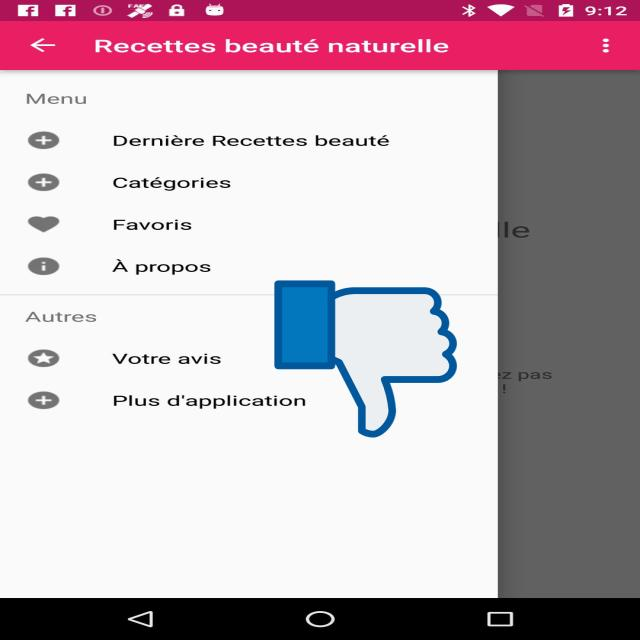obstruction: (274, 277, 457, 441)
